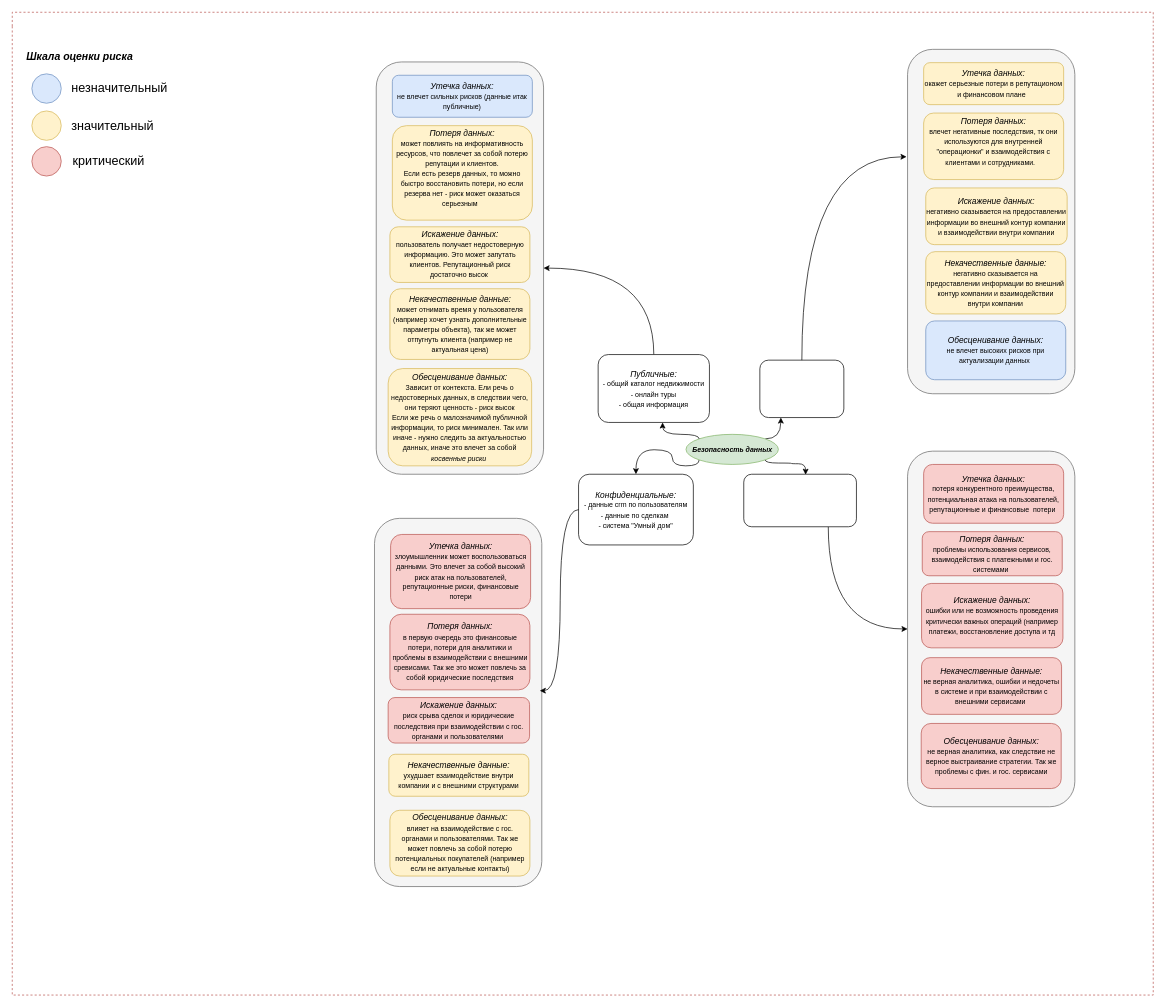
This 1166x1007 diagram has some shape labels left out. The shapes that lost their labels are listed below. From the top down, each one's centre as x and y in pixels, then its label:
point 801,388: Внутренние: - данные crm - информация от УК
point 799,500: Секретные: - финансовые данные - данные от гос. органов - данные аутентификации
